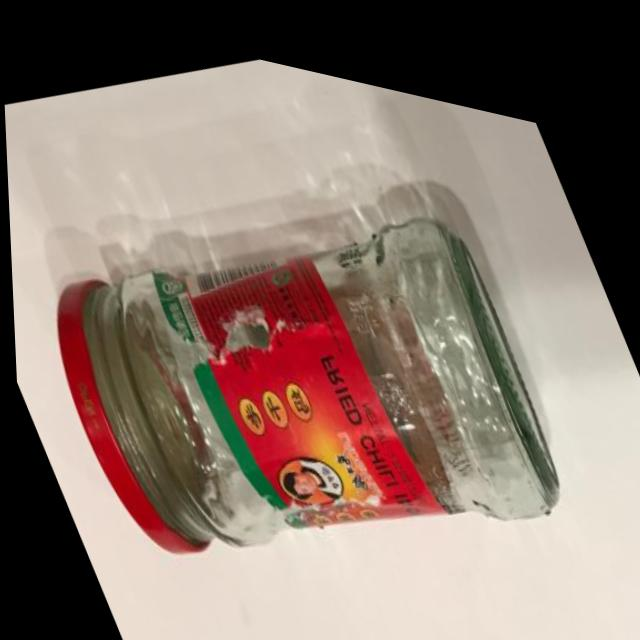glass: (1, 34, 640, 640)
